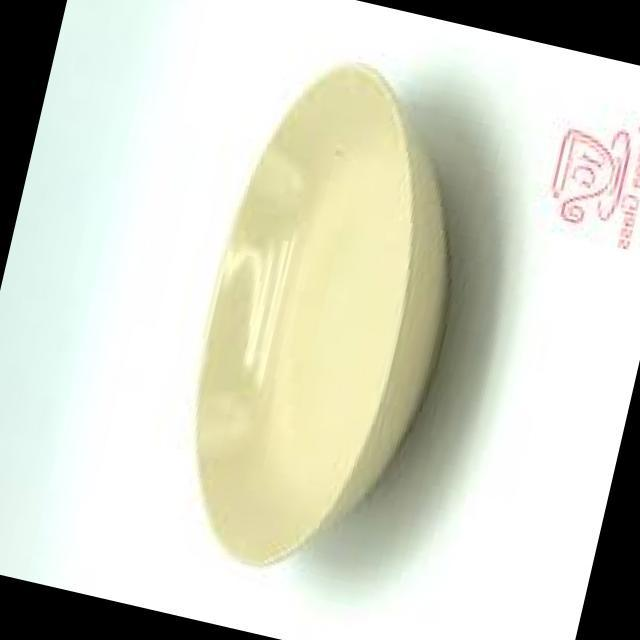plate: (132, 34, 524, 616)
